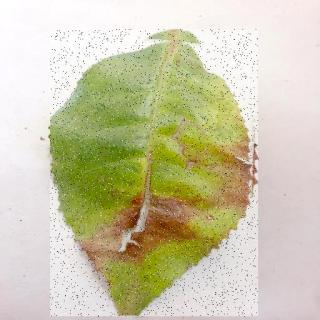Algal Leaf: (51, 31, 259, 318)
